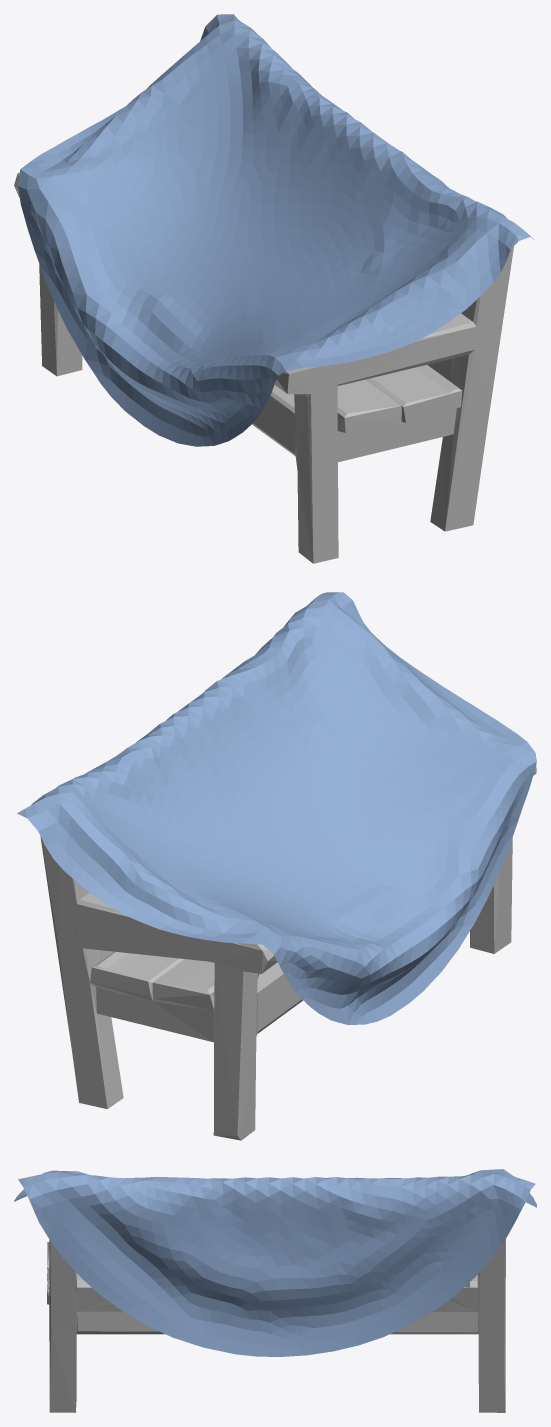
Rendered from level_1.glb.
3 renders of one model, top to bottom at view 1: azimuth 30°, elevation 25°; view 2: azimuth 150°, elevation 25°; view 3: azimuth 270°, elevation 25°, orthographic. The views are drawn at different scales.
Parts seen in each view (by area): view 1: world, object.obj; view 2: world, object.obj; view 3: world, object.obj.
Part boxes in pixels (x1,y1,x2,y2): world: [18, 14, 534, 446]; object.obj: [14, 172, 513, 563]; world: [17, 592, 536, 1024]; object.obj: [40, 754, 536, 1140]; world: [14, 1169, 536, 1356]; object.obj: [47, 1239, 505, 1412].
Bounding box in the file's own units: 0.2671 × 0.2866 × 0.5438.
